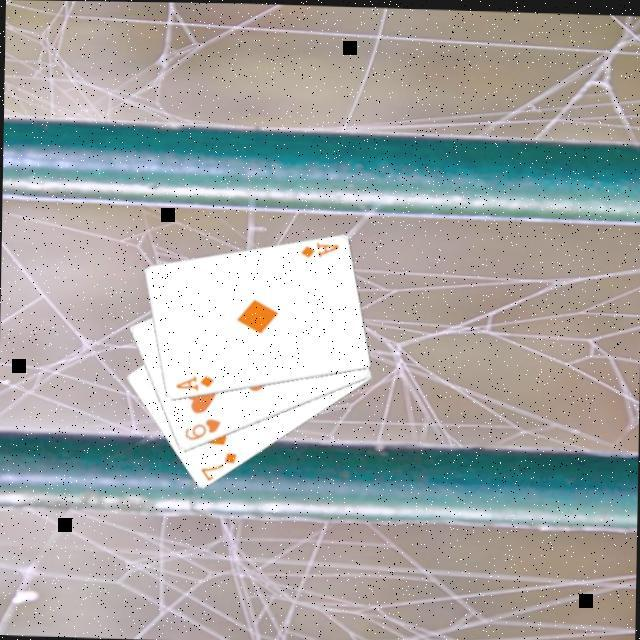6H: (180, 415, 222, 444)
7D: (196, 448, 238, 484)
AD: (297, 239, 340, 261), (172, 372, 214, 394)
